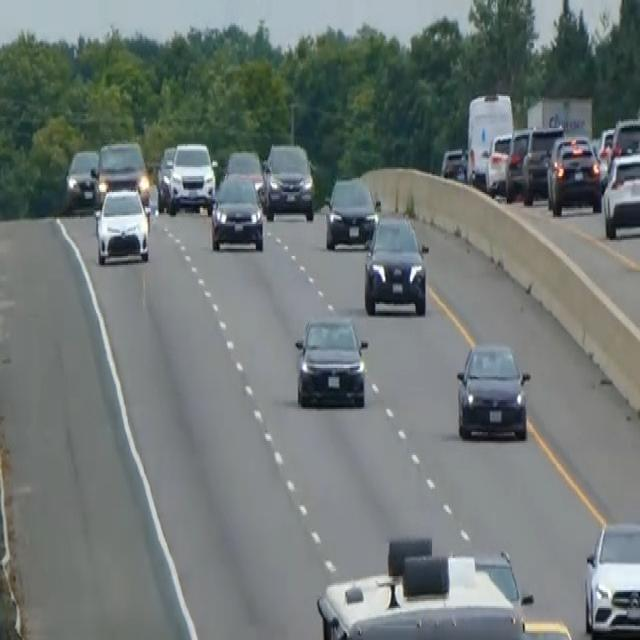bus: (315, 534, 574, 638)
car: (455, 338, 531, 441), (293, 311, 368, 409), (363, 212, 429, 316), (583, 519, 639, 638), (546, 132, 602, 215), (93, 185, 150, 265), (91, 137, 151, 213), (209, 170, 264, 252), (324, 172, 379, 249), (262, 140, 314, 220), (168, 139, 216, 213), (521, 123, 564, 205), (601, 150, 639, 238), (224, 148, 265, 206), (64, 146, 99, 210), (504, 125, 531, 199), (485, 130, 513, 196), (155, 144, 176, 208), (610, 116, 639, 158), (440, 144, 467, 181)
minibus: (464, 87, 514, 189)
